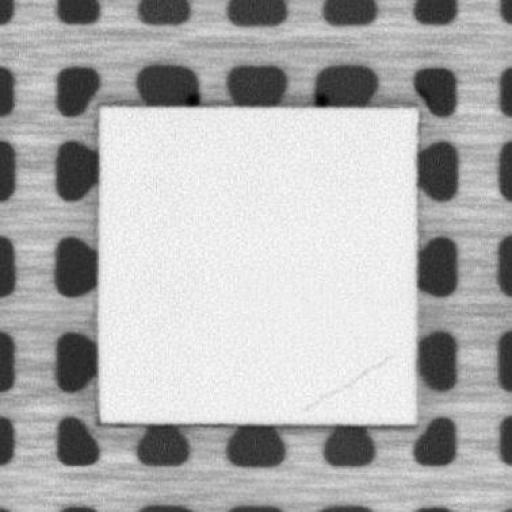DIE_CRACK: (303, 352, 393, 414)
